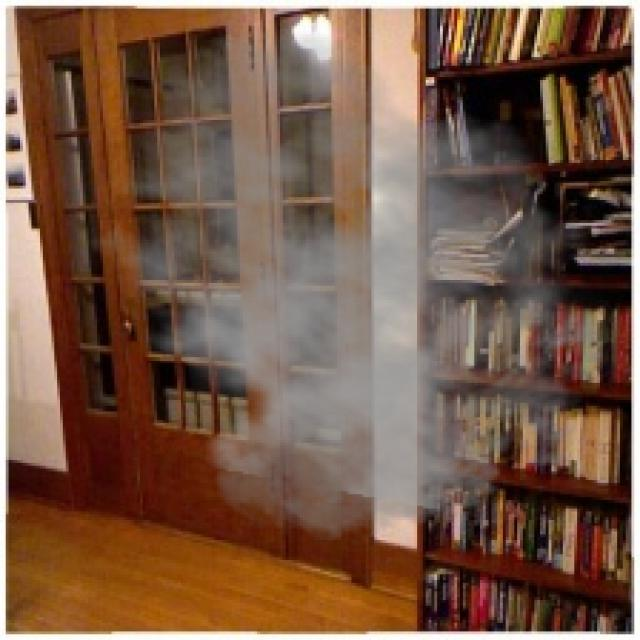smoke: (69, 26, 632, 548)
